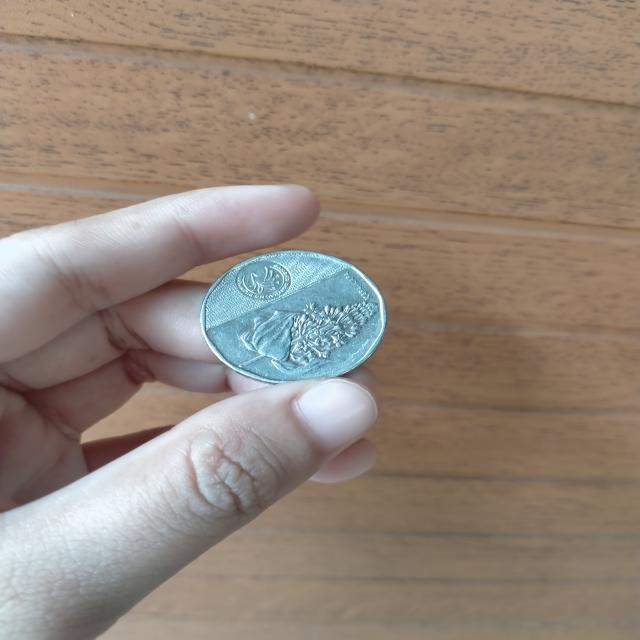10_New_Back: (232, 292, 384, 382)
